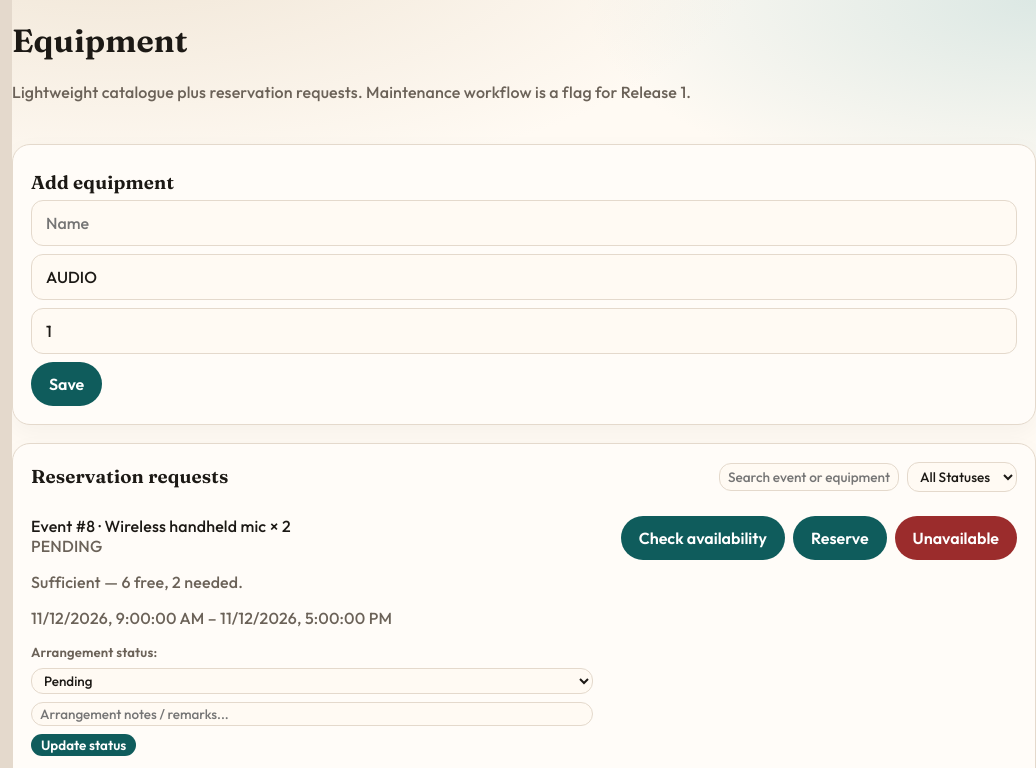
Test: SCRUM-21 Equipment availability on the request list › AC7: Check availability refreshes the result for that request
expect the text "Sufficient — 6 free, 2 needed." is shown: met, box [31,572,243,592]
Click the button "Check availability". click: (703, 538)
box: [621,516,785,560]
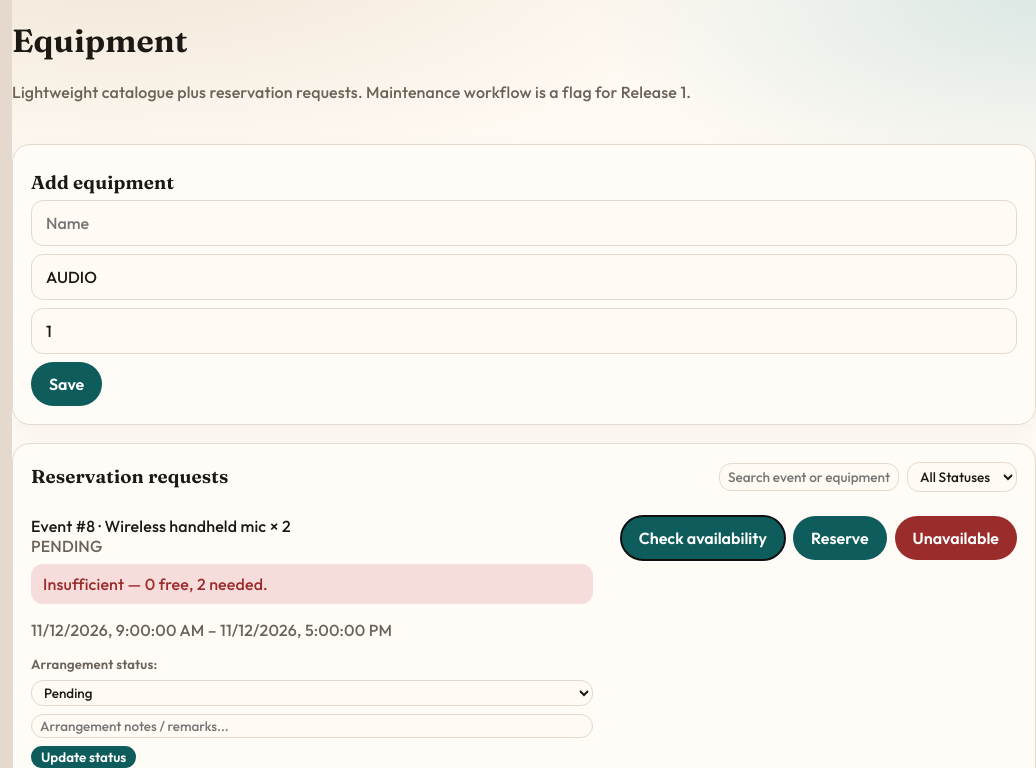
expect the text "Insufficient — 0 free, 2 needed." is shown: met, box [31,564,593,604]
